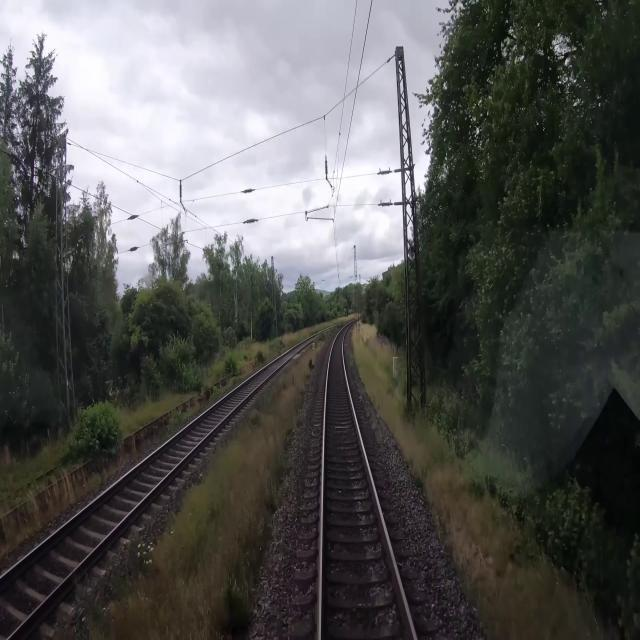Plant: (84, 327, 336, 639)
